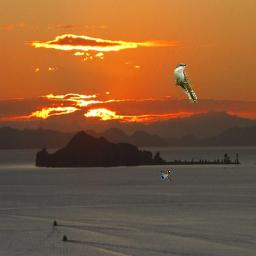Cuckoo: (174, 63, 197, 103)
Swallow: (160, 171, 171, 181)
